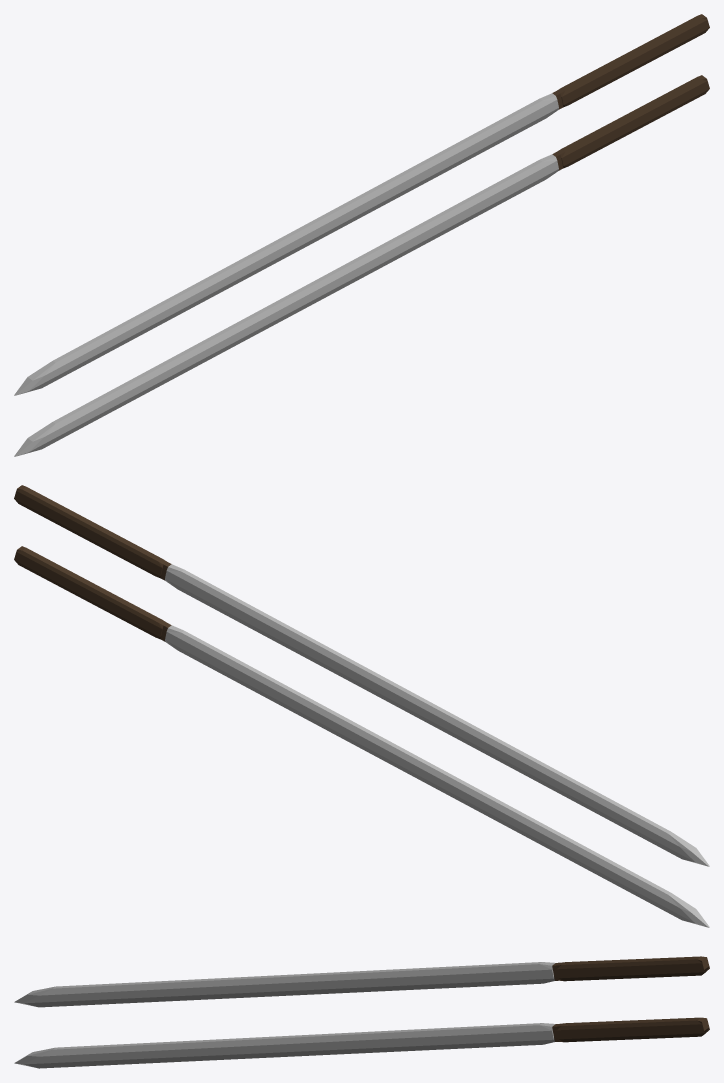
The model's file is sword.fbx.
3 renders of one model, top to bottom at view 1: azimuth 30°, elevation 25°; view 2: azimuth 150°, elevation 25°; view 3: azimuth 330°, elevation 25°, orthographic.
Parts seen in each view (by area): view 1: sword.001, sword; view 2: sword.001, sword; view 3: sword.001, sword.
Boxes of the visible parts, bbox=[...] form: sword.001: bbox=[14, 75, 709, 456]; sword: bbox=[14, 14, 709, 395]; sword.001: bbox=[14, 546, 709, 927]; sword: bbox=[14, 485, 709, 866]; sword.001: bbox=[14, 1017, 709, 1068]; sword: bbox=[14, 956, 709, 1007].
Size of the model in its own units: 143 by 53.54 by 1.86.
